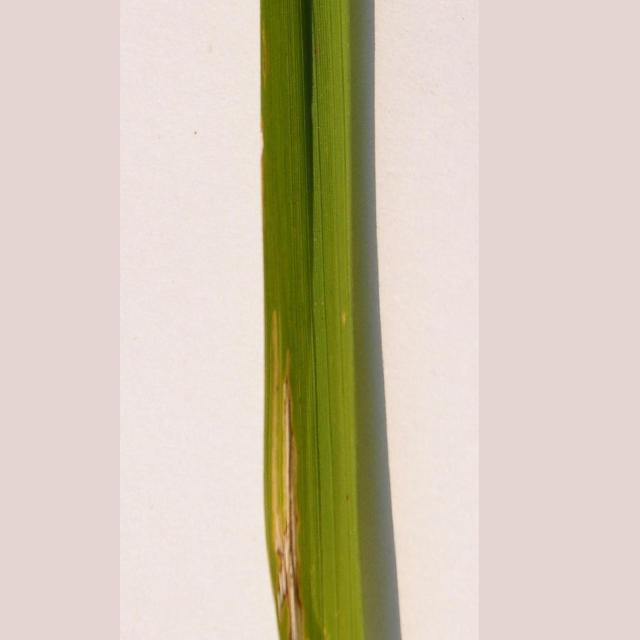Bacterial leaf blight: (268, 305, 324, 640), (332, 301, 352, 332)
